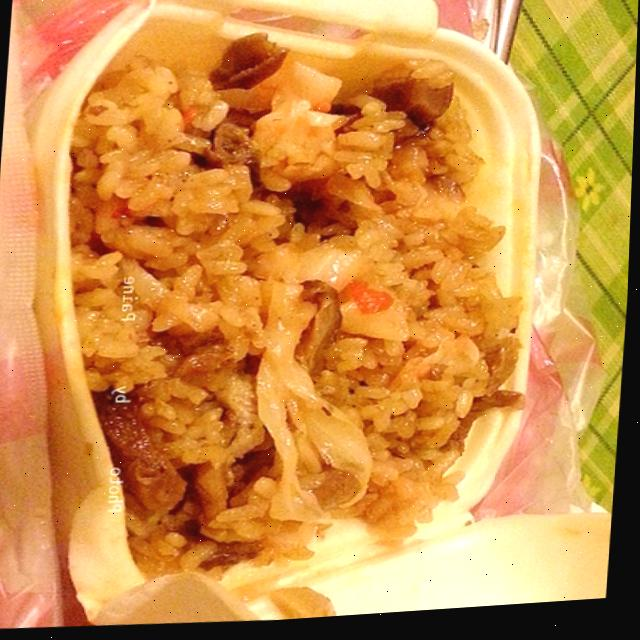米饭主食: (0, 0, 621, 640)
